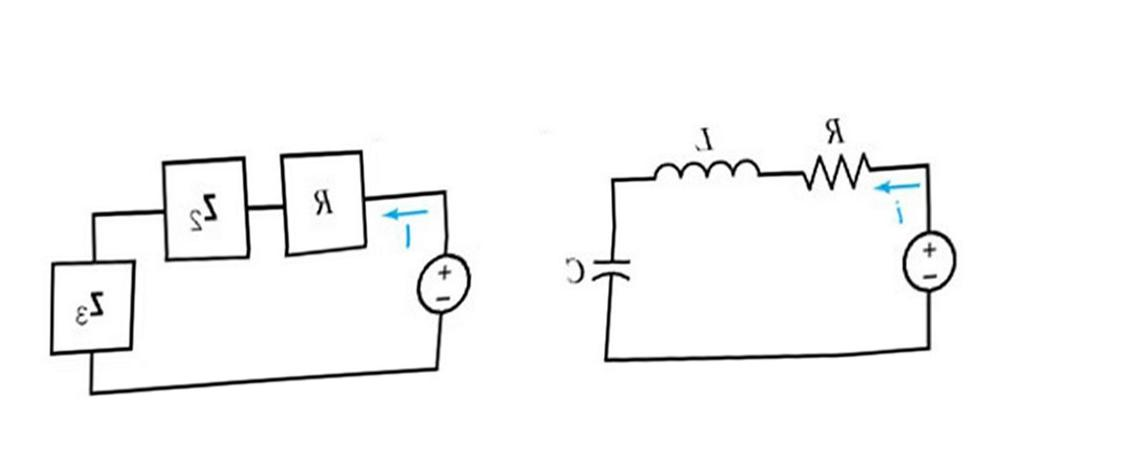Battery: (877, 214, 979, 310), (403, 228, 484, 337)
